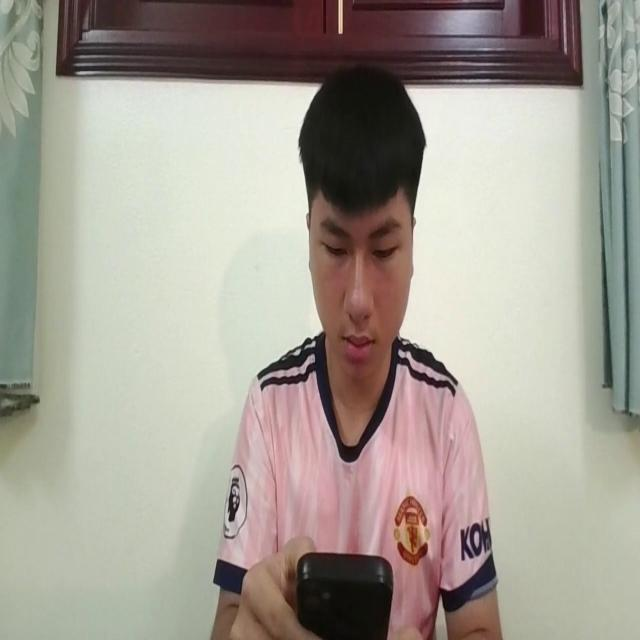phone: (295, 539, 393, 640)
student: (209, 59, 502, 640)
